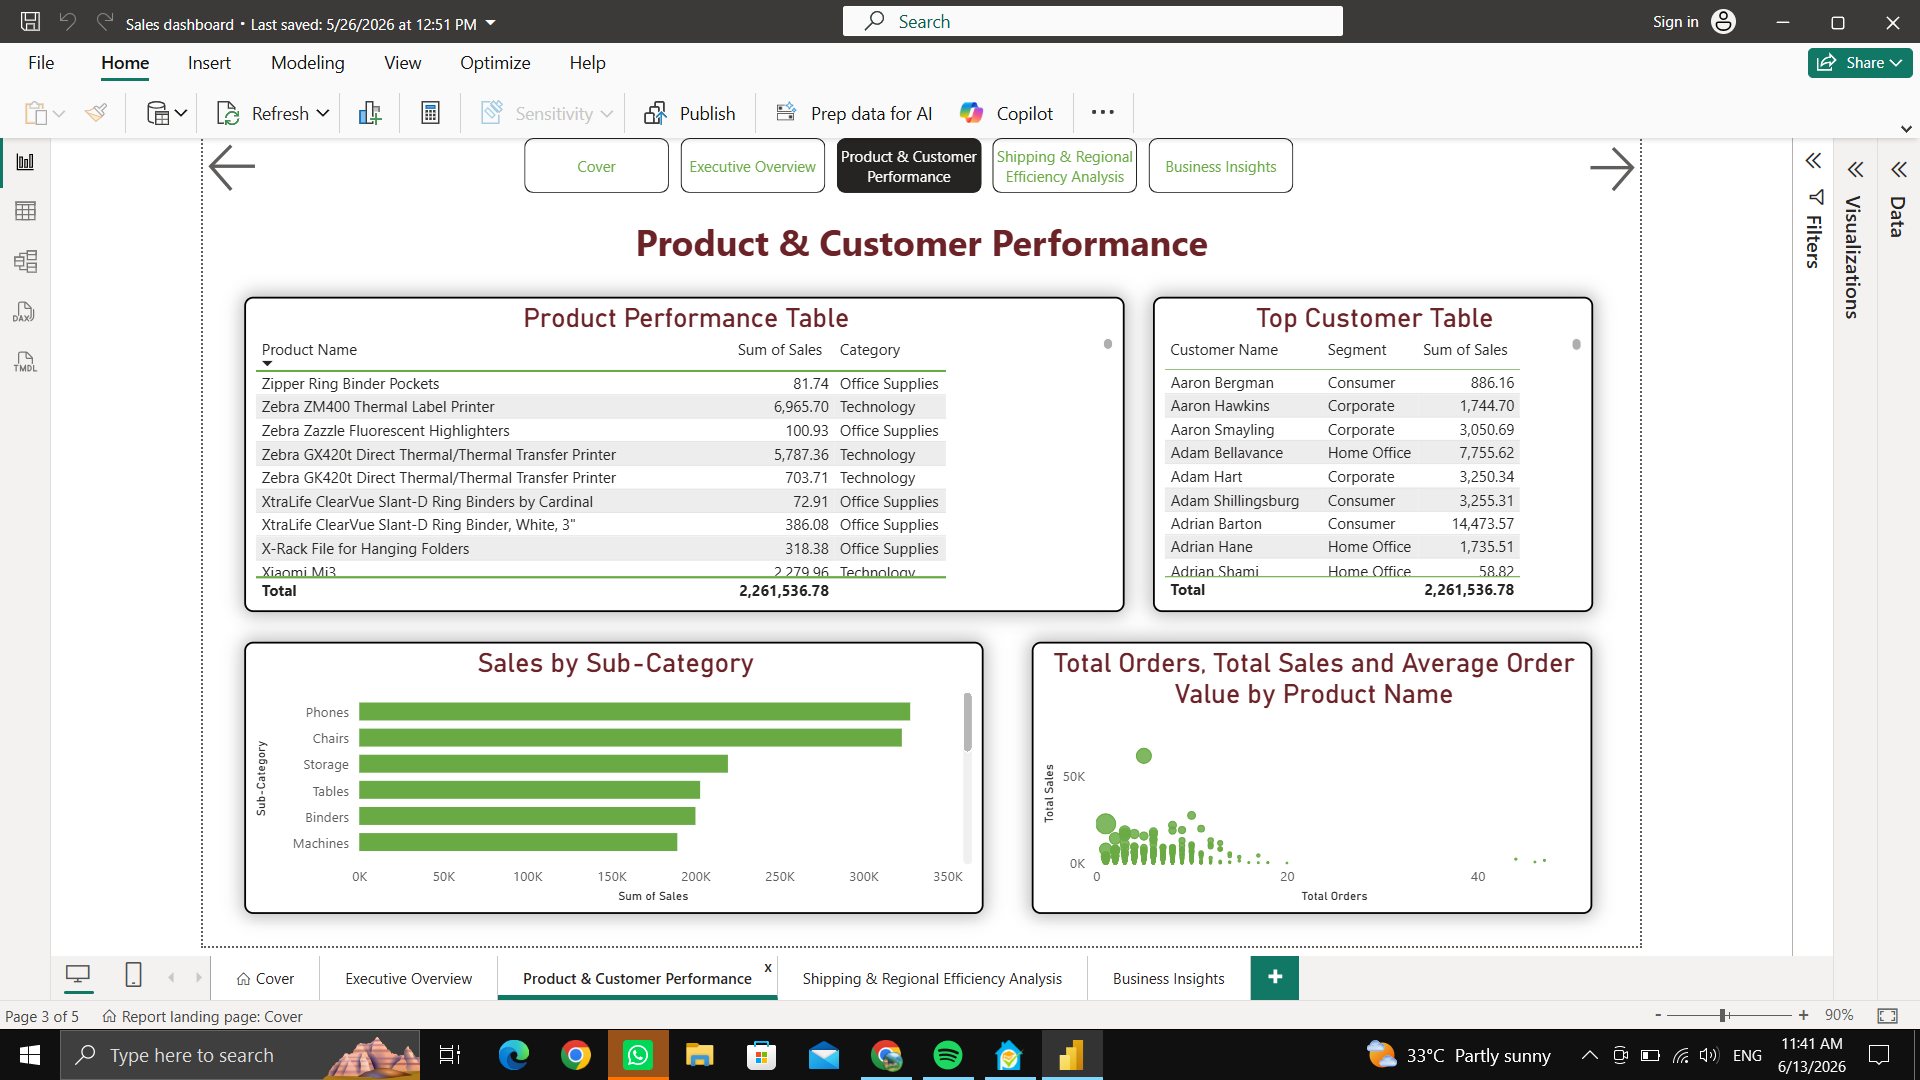

This screenshot's page, from the dashboard's own definition file:
{"tool":"powerbi","page":{"name":"Product & Customer Performance","canvas":[1280,720],"ordinal":2},"visuals":[{"type":"tableEx","title":"Product Performance Table","fields":{"Values":["train.Product Name","Sum(train.Sales)","train.Category"]},"box":[36.2,141.2,784.2,281.1],"z":0},{"type":"tableEx","title":"Top Customer Table","fields":{"Values":["train.Customer Name","train.Segment","Sum(train.Sales)"]},"box":[846,141.4,391.8,280.5],"z":1000},{"type":"clusteredBarChart","title":"Sales by Sub-Category","fields":{"Y":["Sum(train.Sales)"],"Category":["train.Sub-Category"]},"box":[36.2,448.8,658.7,242.5],"z":2000},{"type":"scatterChart","title":"Total Orders, Total Sales and Average Order Value by Product Name","fields":{"X":["train.Orders"],"Y":["Sum(train.Sales)"],"Size":["train.Order Value"],"Category":["train.Product Name"]},"box":[738.3,448.8,499.5,242.5],"z":3000},{"type":"textbox","box":[0,65.1,1280,55.5],"z":4000},{"type":"actionButton","box":[1229.4,0,50.7,55.5],"z":4001},{"type":"actionButton","box":[0,0,100.1,53.1],"z":4002},{"type":"pageNavigator","box":[285.9,0,688.9,49.5],"z":4003}]}

Visuals, with their boxes on the page's 1280x720 design canvas (x1, y1, x2, y2). These are canvas units, not pixel positions in the 1920x1080 screenshot, which may show the page scaled, cropped or inside an application window:
"Product Performance Table" tableEx: l=36, t=141, r=820, b=422
"Top Customer Table" tableEx: l=846, t=141, r=1238, b=422
"Sales by Sub-Category" clusteredBarChart: l=36, t=449, r=695, b=691
"Total Orders, Total Sales and Average Order Value by Product Name" scatterChart: l=738, t=449, r=1238, b=691
textbox: l=0, t=65, r=1280, b=121
actionButton: l=1229, t=0, r=1280, b=56
actionButton: l=0, t=0, r=100, b=53
pageNavigator: l=286, t=0, r=975, b=50
